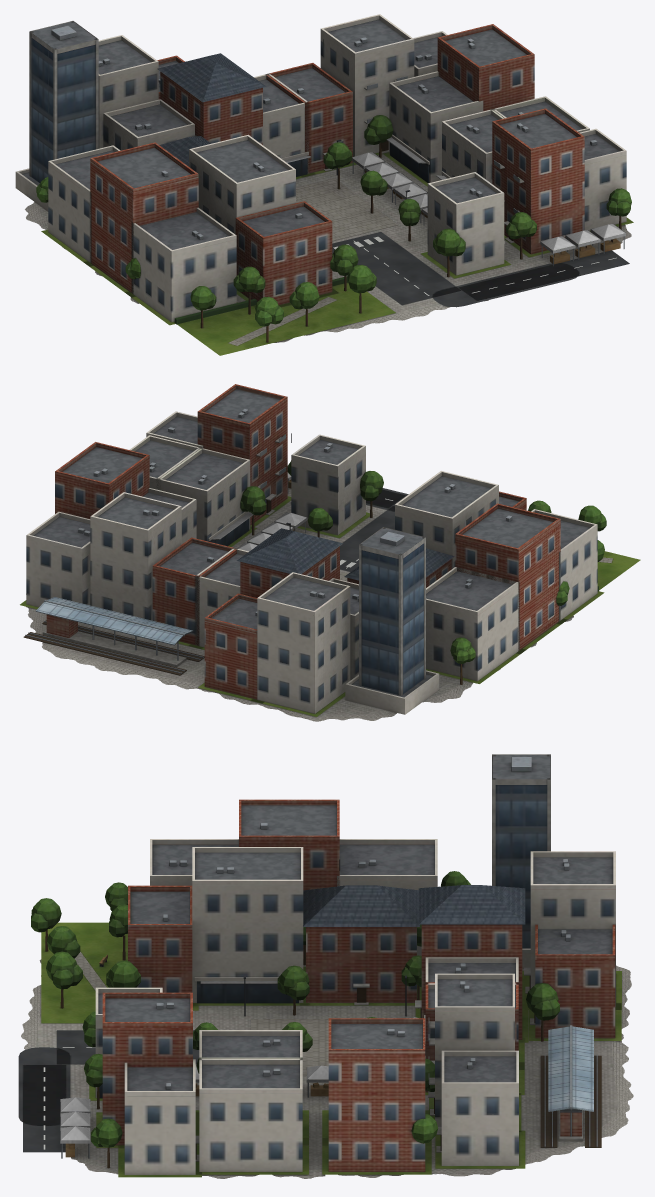
File: modern-town-medium-a.glb
3 renders of one model, top to bottom at view 1: azimuth 30°, elevation 25°; view 2: azimuth 150°, elevation 25°; view 3: azimuth 270°, elevation 25°, orthographic. The views are drawn at different scales.
Visible parts, largest first — view 1: LOD0; view 2: LOD0; view 3: LOD0.
Part boxes in pixels (x1,y1,x2,y2): LOD0: (15,14,633,355); LOD0: (20,384,640,721); LOD0: (18,754,633,1178).
Size of what is drawn, in the model's own units: 6.03 by 2.12 by 6.07.
3 materials, 3 textured.
